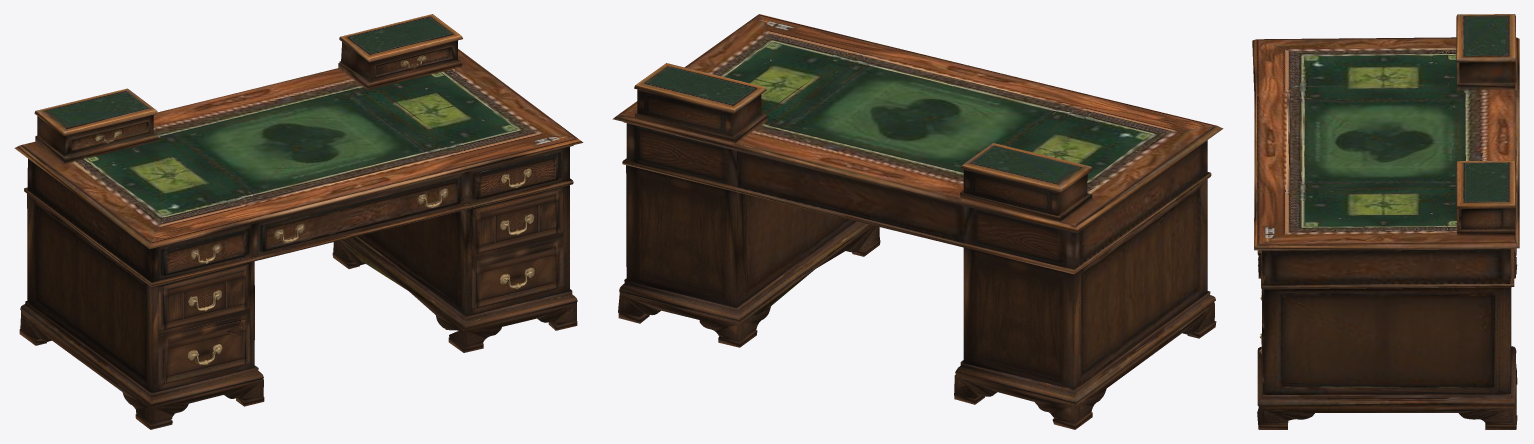
File: office-executive-desk.glb
3 renders of one model, left to right at view 1: azimuth 30°, elevation 25°; view 2: azimuth 150°, elevation 25°; view 3: azimuth 270°, elevation 25°, orthographic. The views are drawn at different scales.
Parts seen in each view (by area): view 1: executive-desk; view 2: executive-desk; view 3: executive-desk.
Boxes of the visible parts, bbox=[...] form: executive-desk: bbox=[14, 14, 583, 429]; executive-desk: bbox=[612, 14, 1223, 429]; executive-desk: bbox=[1252, 14, 1519, 429].
Size of the model in its own units: 2 by 0.9722 by 1.08.
Materials: 1 (1 with a texture image).
